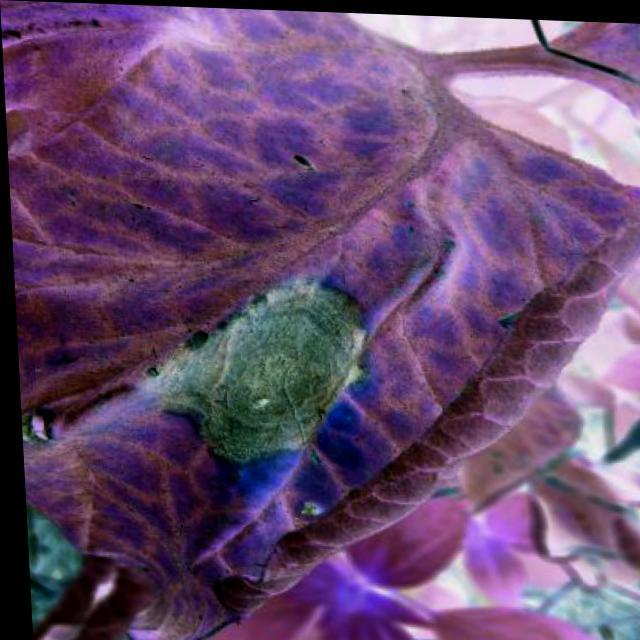Tomato Early blight leaf: (2, 18, 354, 256)
